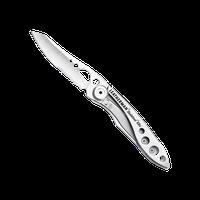knife: (24, 23, 174, 174)
